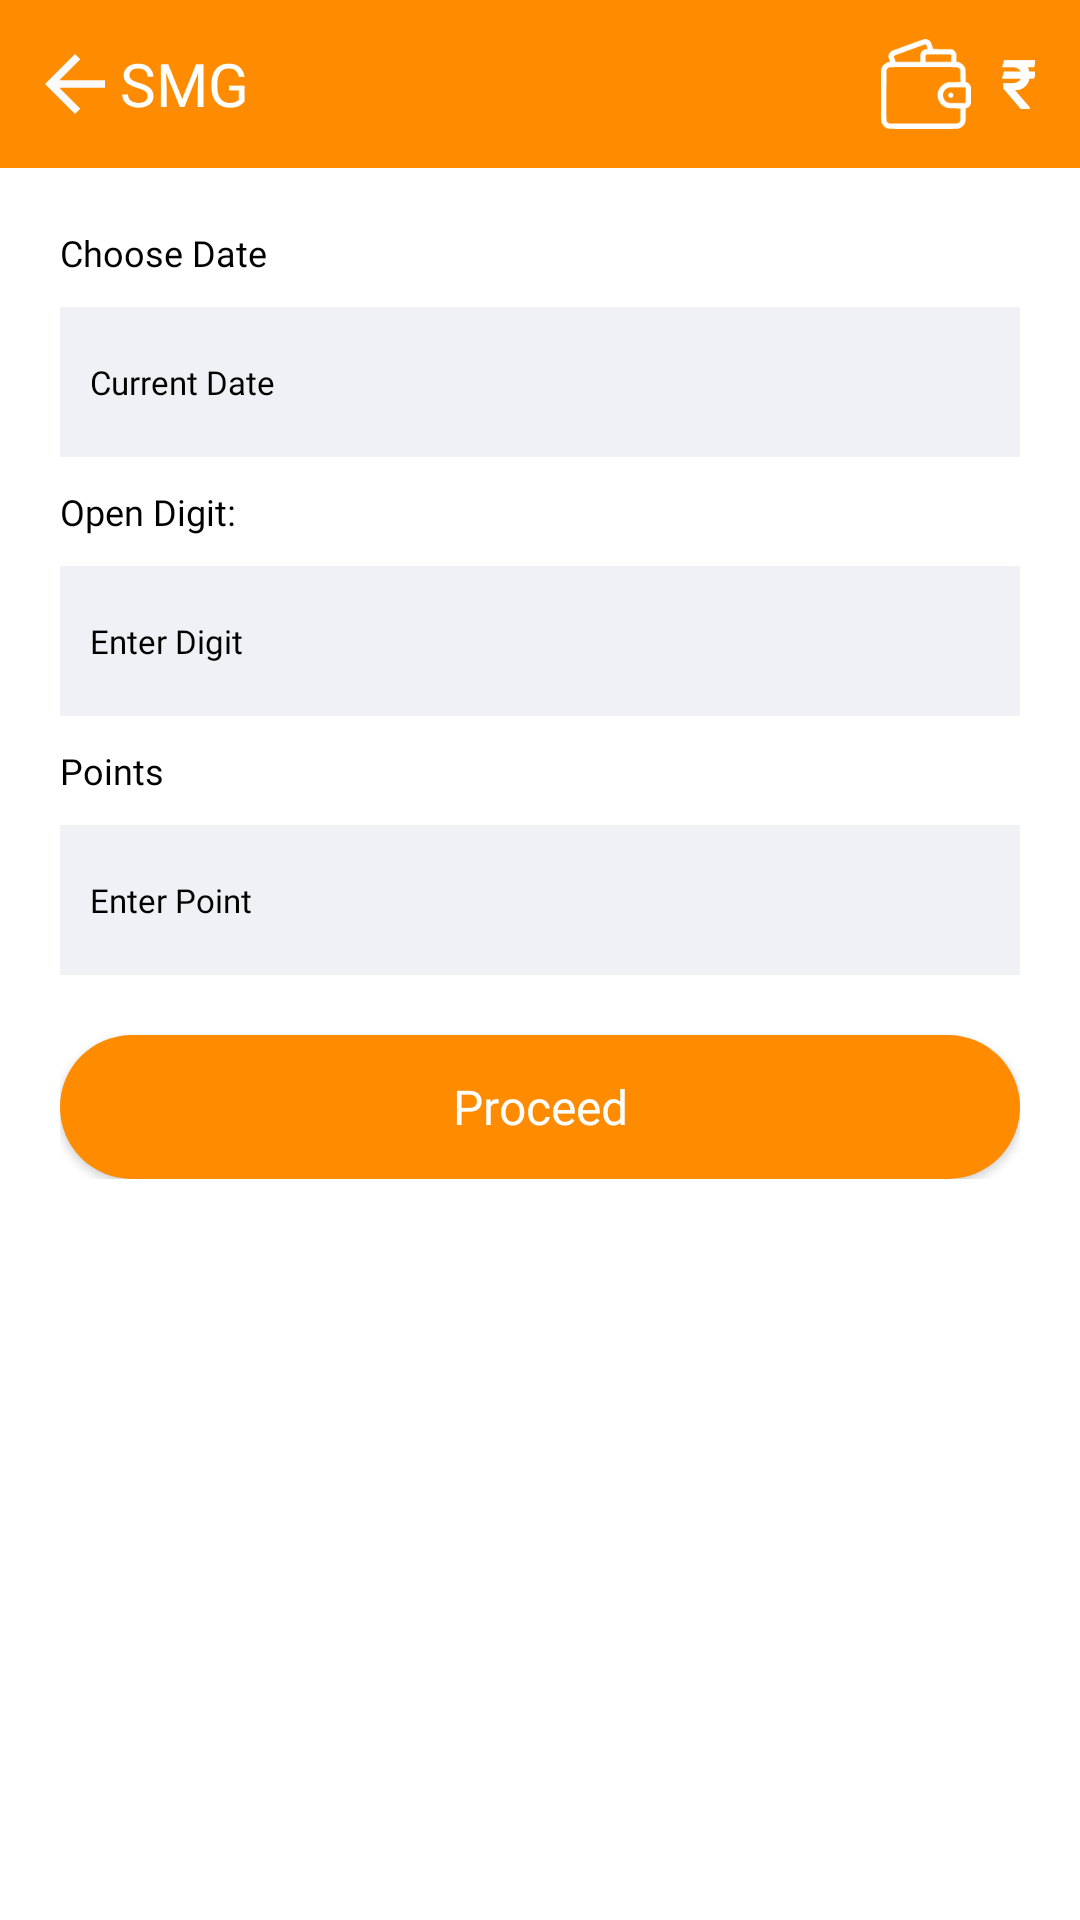

Screen size 1080w x 1920h. Icon name, then its center in pixels as point (x, y):
arrow back: point (75, 84)
